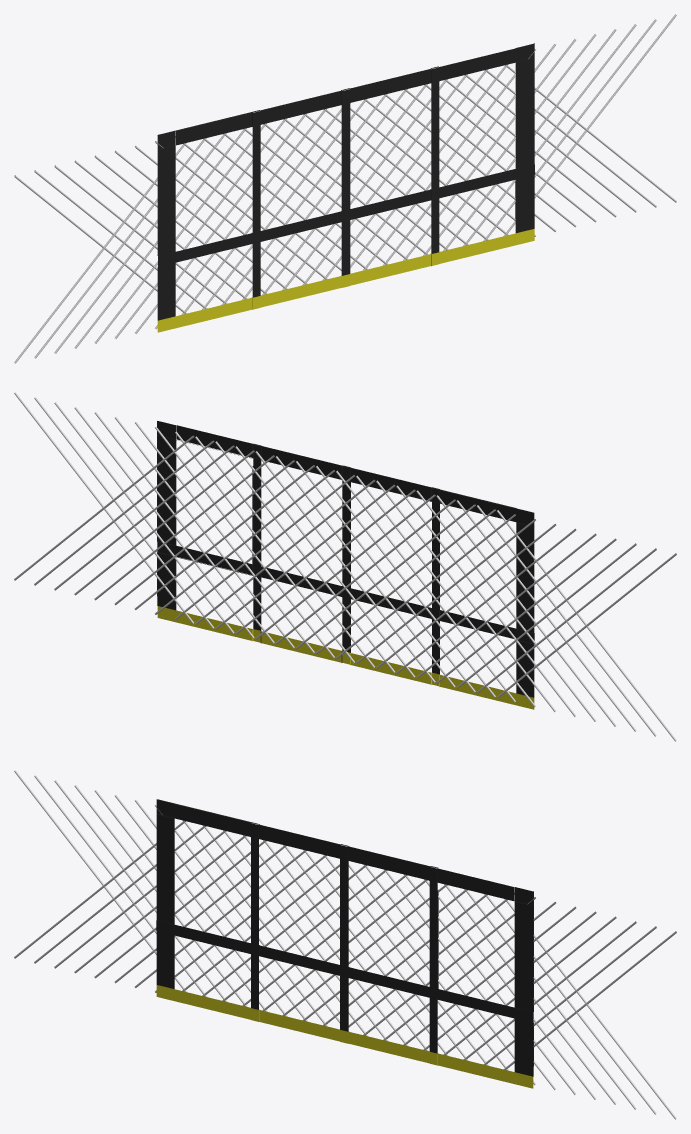
The model's file is ElevatorGrate.fbx.
The picture shows the model from 3 angles, top to bottom: view 1: azimuth 30°, elevation 25°; view 2: azimuth 150°, elevation 25°; view 3: azimuth 330°, elevation 25°; orthographic projection.
Parts seen in each view (by area): view 1: Cube.001, Plane; view 2: Plane, Cube.001; view 3: Cube.001, Plane.
Part boxes in pixels (x1,y1,x2,y2): Cube.001: [157, 43, 534, 332]; Plane: [14, 14, 676, 363]; Plane: [14, 392, 676, 741]; Cube.001: [157, 421, 534, 709]; Cube.001: [156, 799, 533, 1088]; Plane: [14, 770, 676, 1119].
Bounding box in the file's own units: 2288 × 651 × 9.8.
